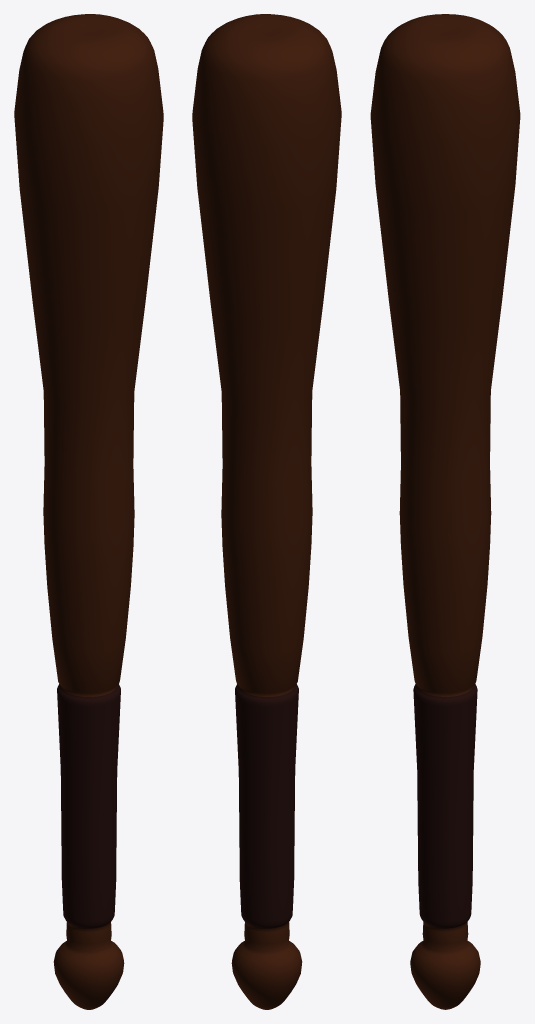
The model's file is bat-dark-0b4f9a303288.glb.
3 renders of one model, left to right at view 1: azimuth 30°, elevation 25°; view 2: azimuth 150°, elevation 25°; view 3: azimuth 270°, elevation 25°, orthographic.
Visible parts, largest first — view 1: Bat3; view 2: Bat3; view 3: Bat3.
Part boxes in pixels (x1,y1,x2,y2): Bat3: (14, 14, 163, 1009); Bat3: (192, 14, 341, 1009); Bat3: (370, 14, 520, 1009).
Bounding box in the file's own units: 0.1387 × 1 × 0.1387.
